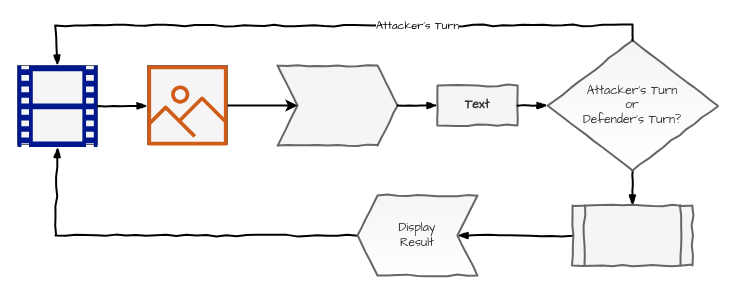
Image size: 736x293. Some labels were removed from this diagram. Here are the shapes that lost their labels. From the top down, the centre of each, then its label:
At (337,105): "OCR".
At (632,235): "Game Logic".
